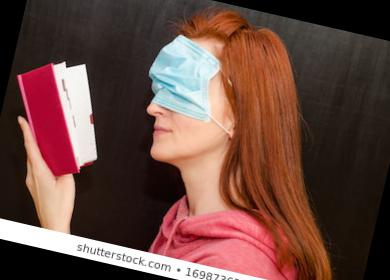mask_weared_incorrect: (125, 41, 224, 176)
